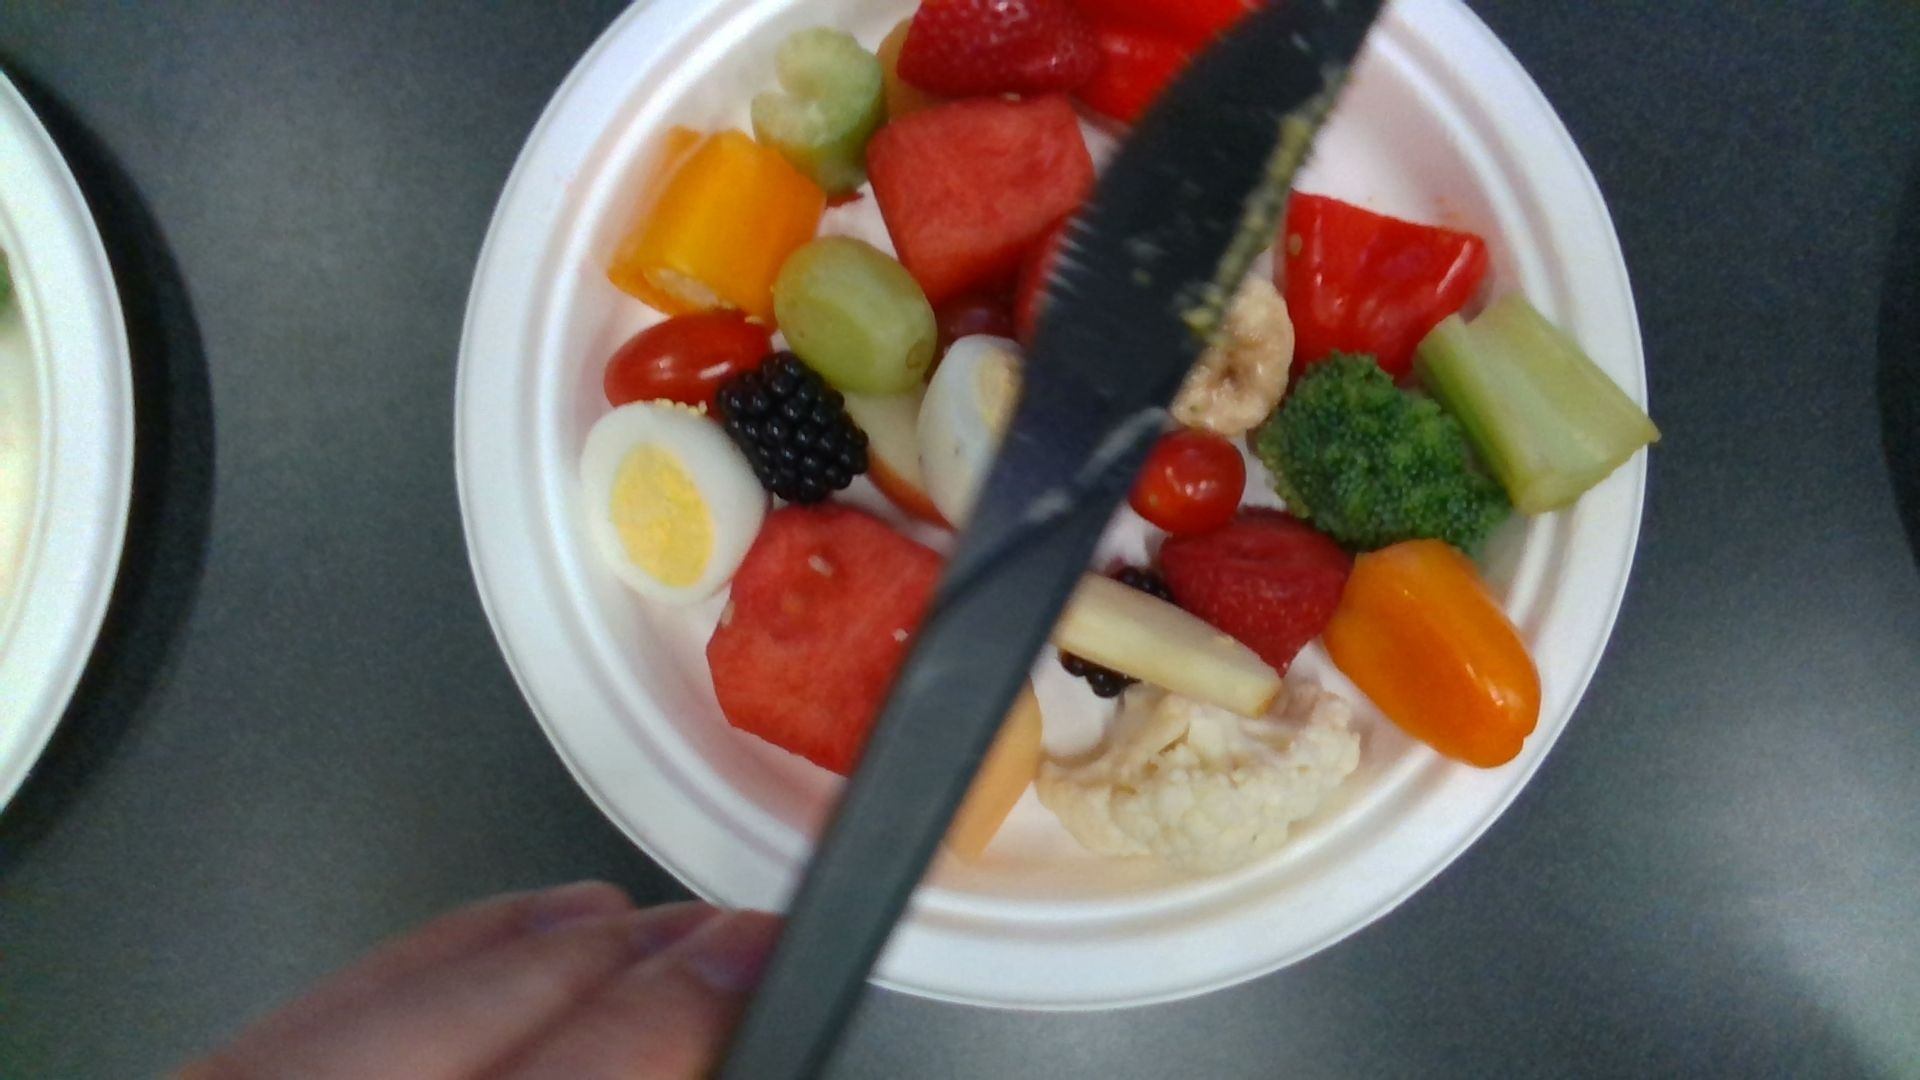apple: (1048, 575, 1287, 716)
banana: (1170, 276, 1295, 430)
bell_pepper: (1324, 541, 1539, 766), (607, 128, 825, 310), (1288, 190, 1489, 378)
blackberry: (724, 360, 866, 498)
broccoli: (1249, 356, 1494, 560)
cauliflower: (1036, 671, 1357, 866)
celery: (1410, 298, 1654, 510), (752, 30, 885, 183)
cherry_tomato: (607, 310, 765, 411), (1135, 431, 1249, 530)
egg: (579, 401, 767, 603), (920, 335, 1025, 527)
grape_green: (779, 237, 932, 392)
melon: (709, 505, 944, 781), (866, 94, 1098, 293)
strawberry: (1155, 510, 1356, 676), (898, 1, 1105, 96)
